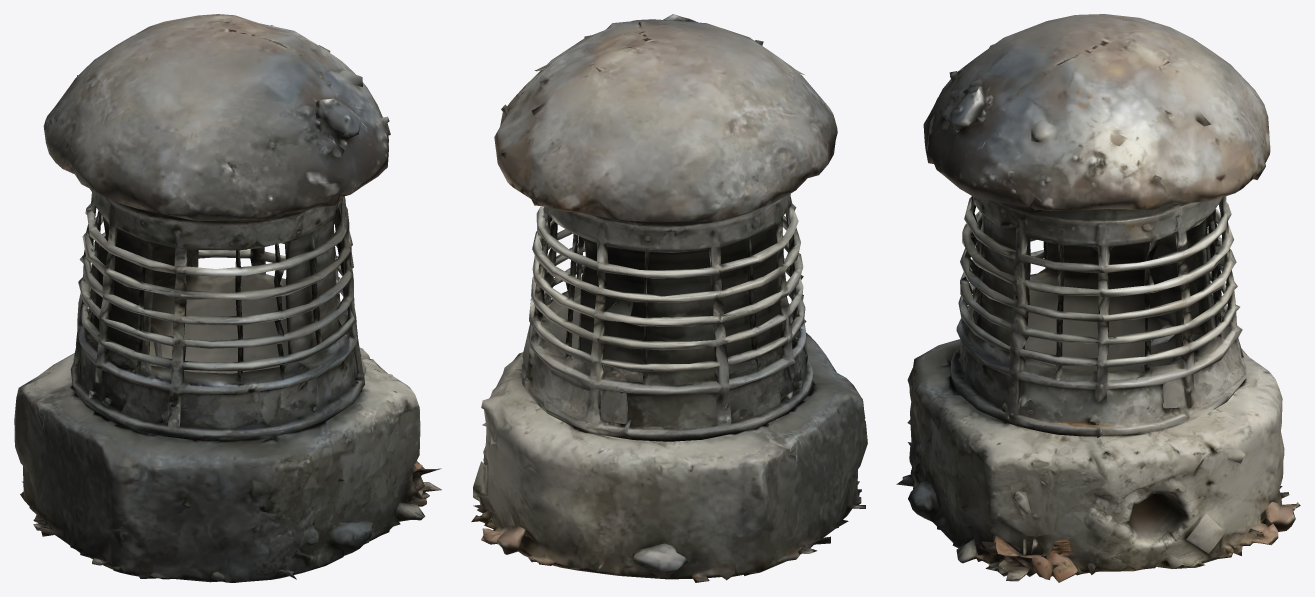
File: vent_mushroom.glb
3 renders of one model, left to right at view 1: azimuth 30°, elevation 25°; view 2: azimuth 150°, elevation 25°; view 3: azimuth 270°, elevation 25°, orthographic.
Visible parts, largest first — view 1: tripo_node_7ff9e4ba-3c10-4e81-a253-05700c67b862; view 2: tripo_node_7ff9e4ba-3c10-4e81-a253-05700c67b862; view 3: tripo_node_7ff9e4ba-3c10-4e81-a253-05700c67b862.
Boxes of the visible parts, x1,y1,x2,y2 form: tripo_node_7ff9e4ba-3c10-4e81-a253-05700c67b862: [14, 14, 441, 582]; tripo_node_7ff9e4ba-3c10-4e81-a253-05700c67b862: [471, 14, 867, 582]; tripo_node_7ff9e4ba-3c10-4e81-a253-05700c67b862: [896, 14, 1300, 582].
Bounding box in the file's own units: 0.7701 × 0.9792 × 0.7673.
1 material, 1 textured.
